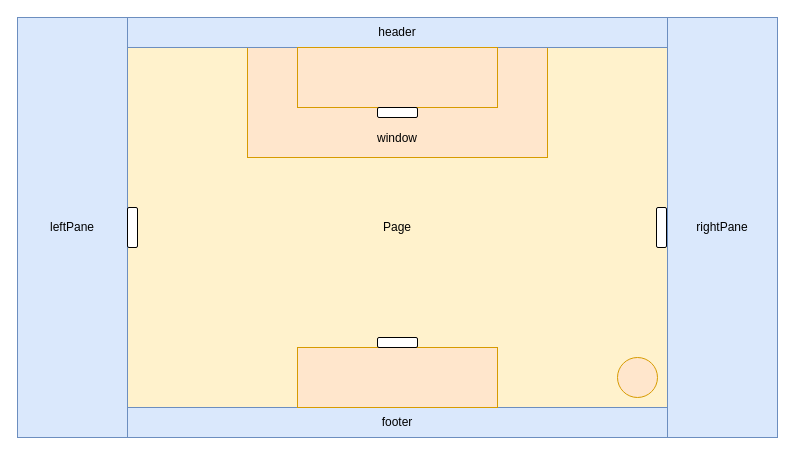
This 795x455 diagram has some shape labels left out. Each missing label, with the centre of its shape:
bottomPane: pixel 397 377
Fab: pixel 637 377
topPane: pixel 397 77
